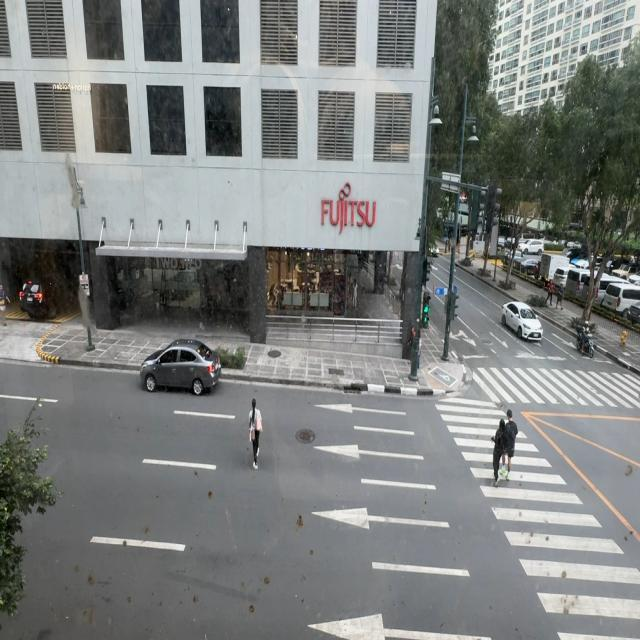jaywalking: (246, 397, 262, 466)
